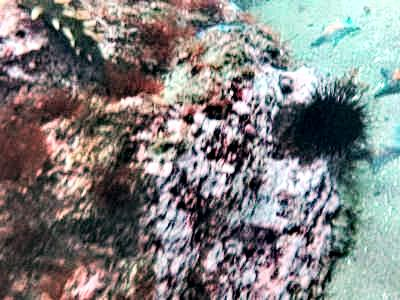urchin: (287, 85, 359, 160)
